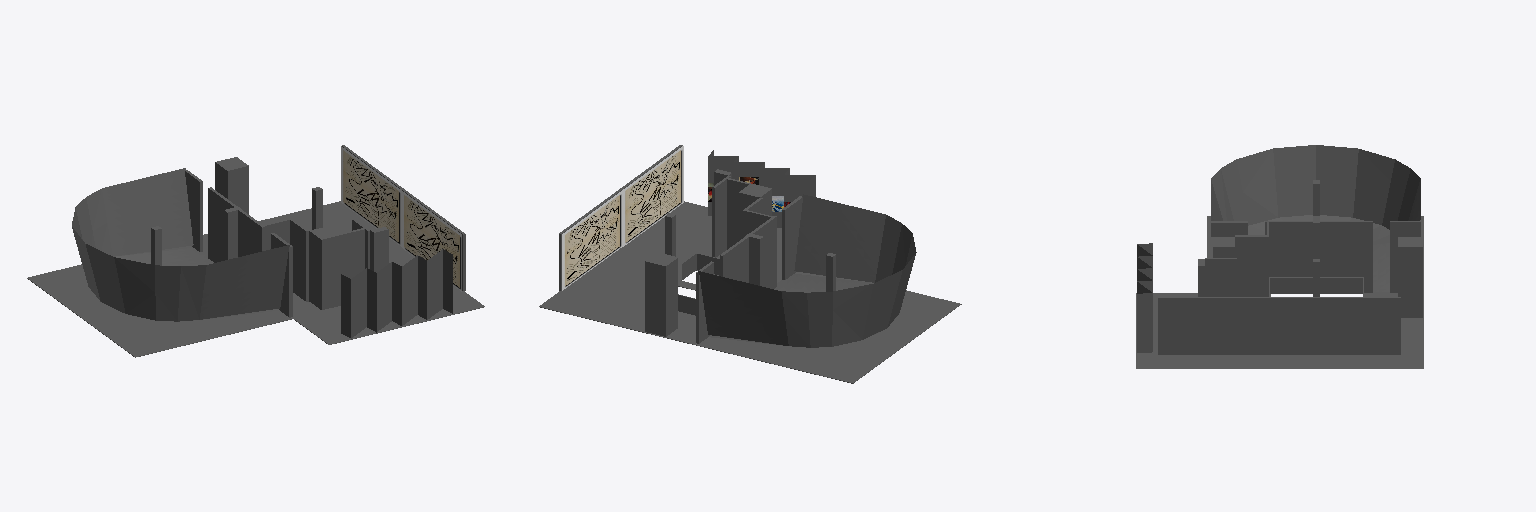
3 renders of one model, left to right at view 1: azimuth 30°, elevation 25°; view 2: azimuth 150°, elevation 25°; view 3: azimuth 270°, elevation 25°, orthographic.
Size of the model in its own units: 21.88 by 4.88 by 17.4.
Materials: 18 (5 with a texture image).